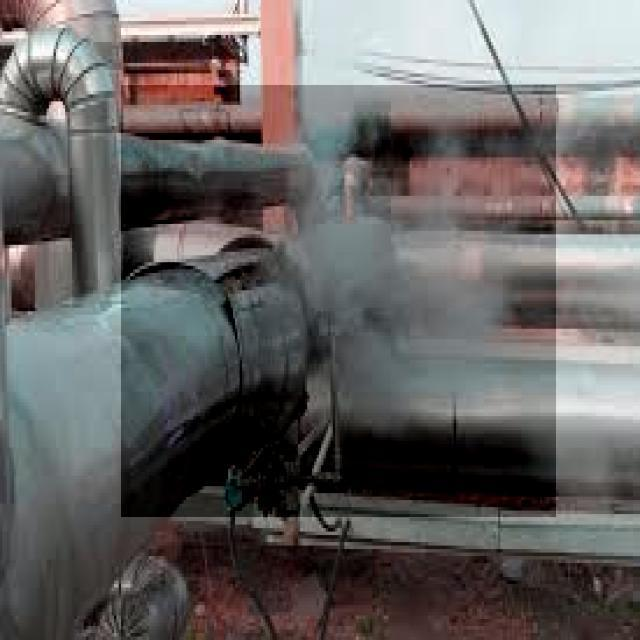corrosion: (273, 142, 392, 333)
